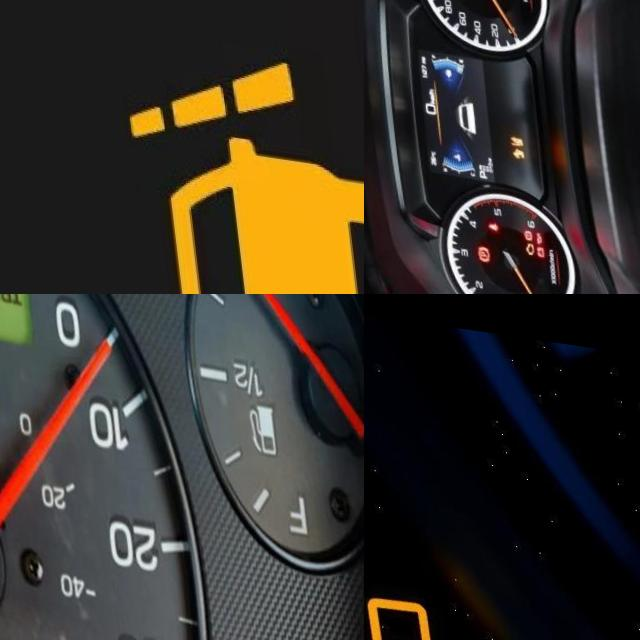Seat Belt: (477, 212, 488, 223)
